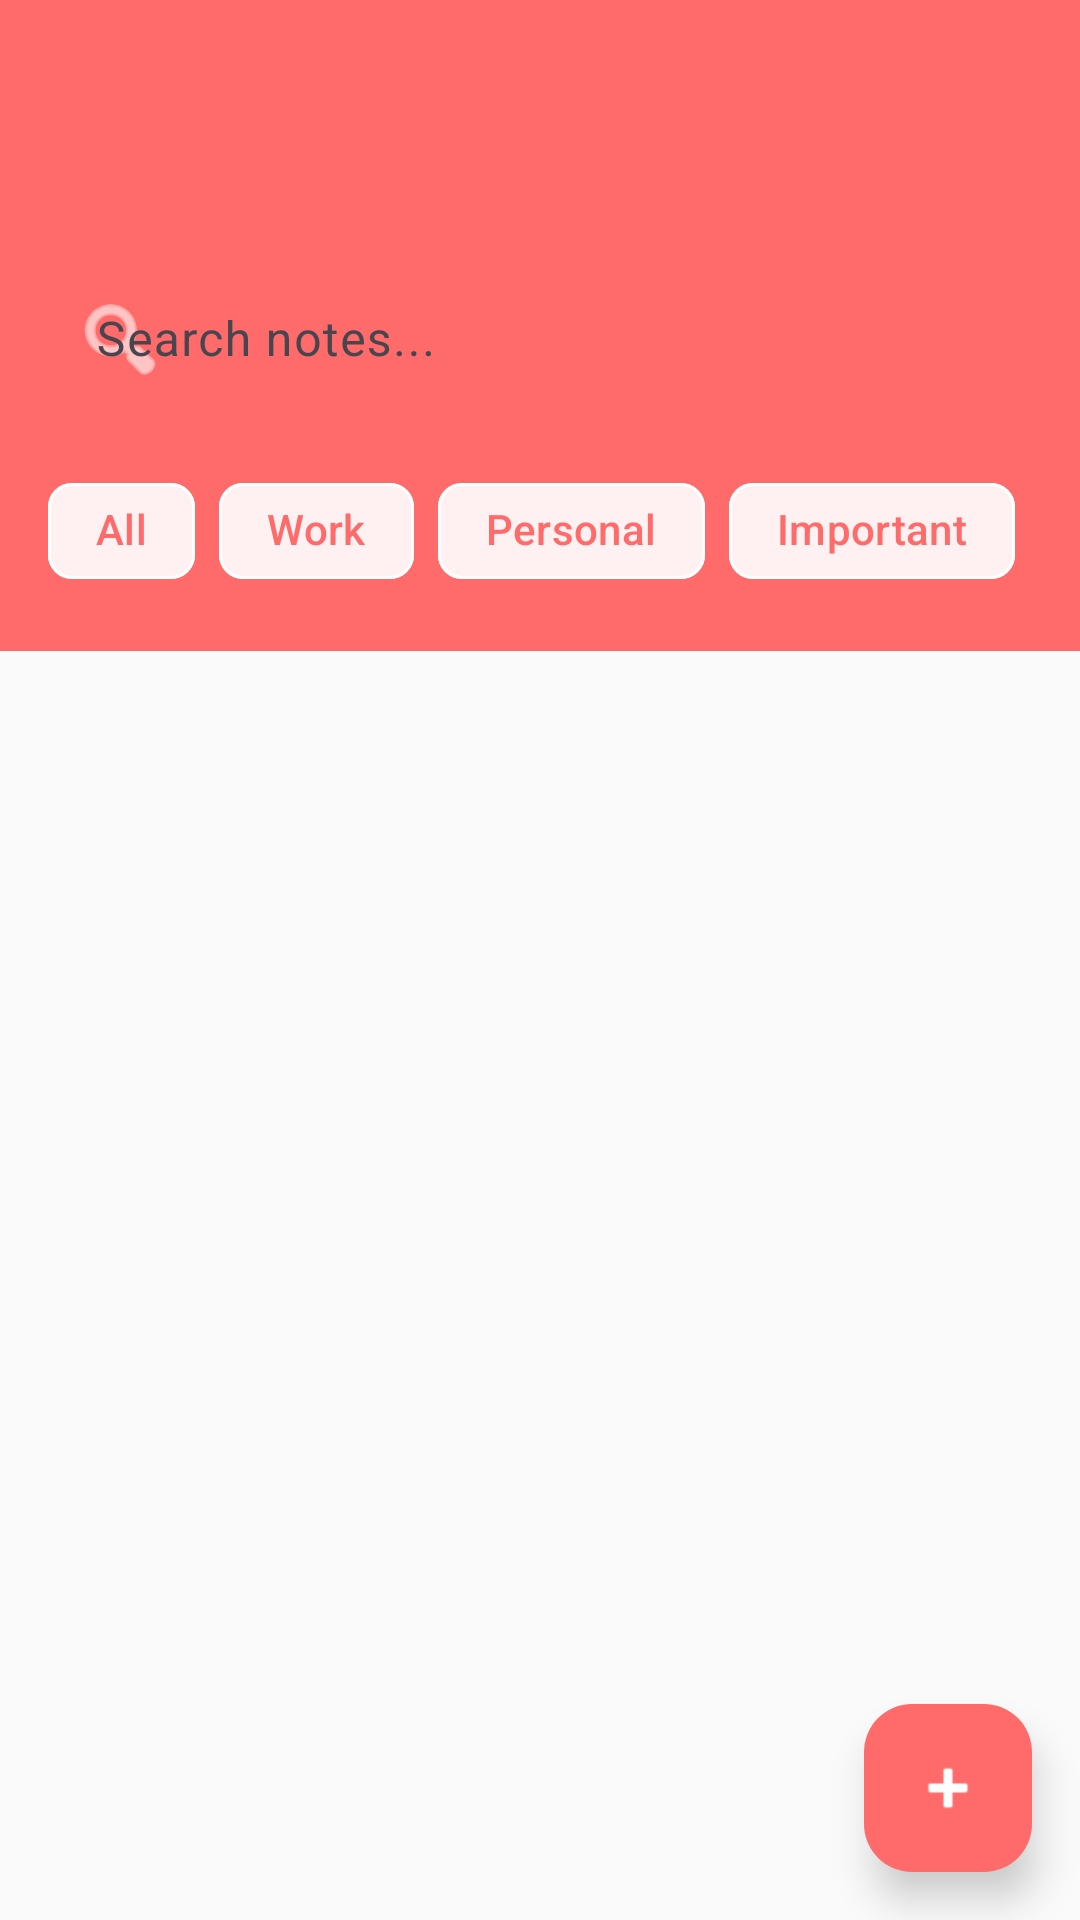

Named icons in this screenshot (1080×1920) and their centers, (x,y):
add: (948,1788)
